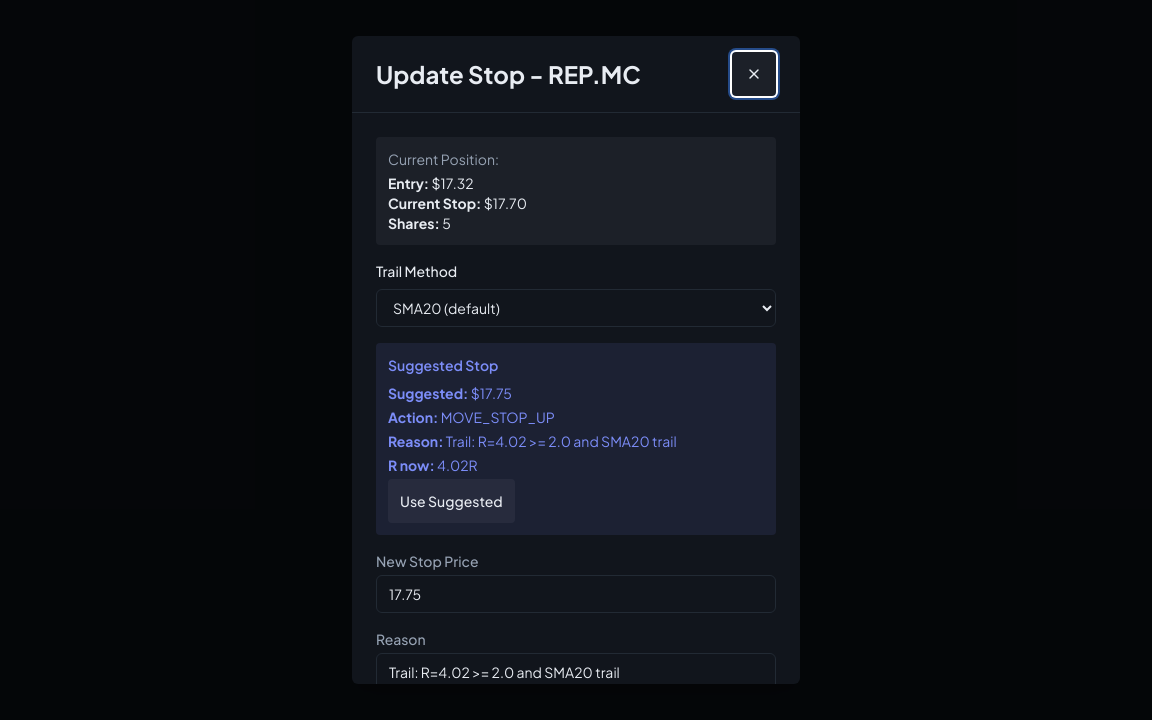
Test case: UpdateStopModalForm › rounds suggested stop to two decimals when applying suggestion
Replace the text in the number field with "17.8" at (576, 594), box left=376, top=575, right=776, bottom=613
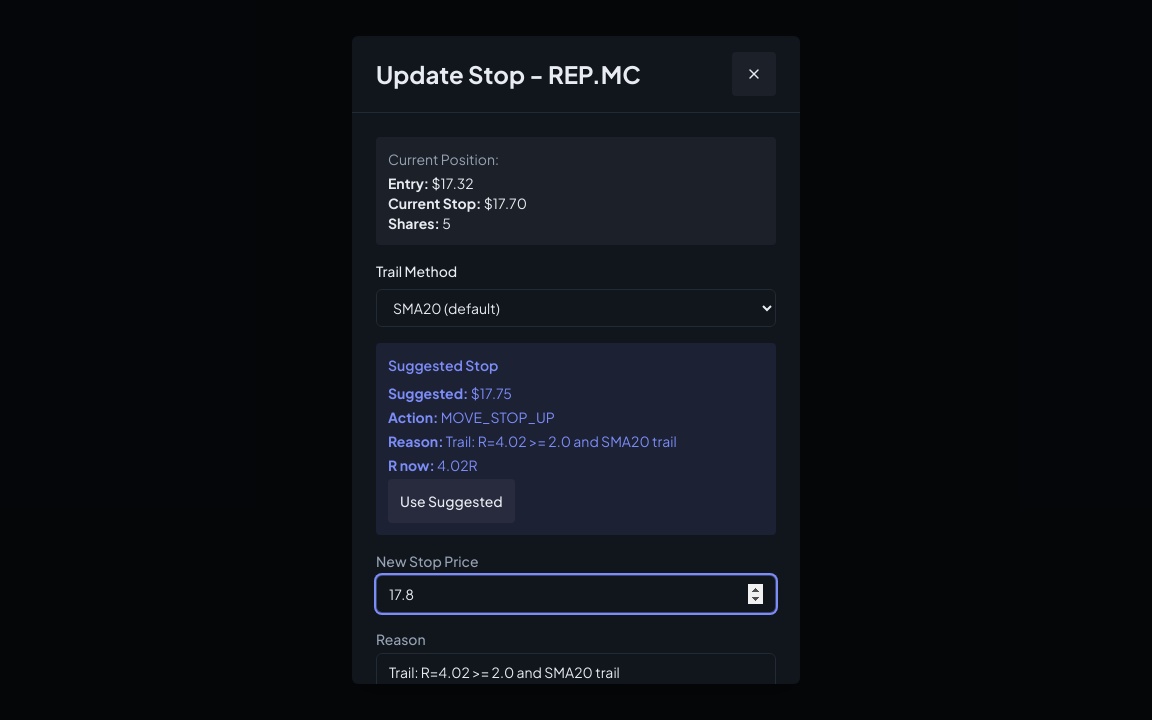
Click the button "Use Suggested".
click(451, 501)  # box left=388, top=479, right=515, bottom=523
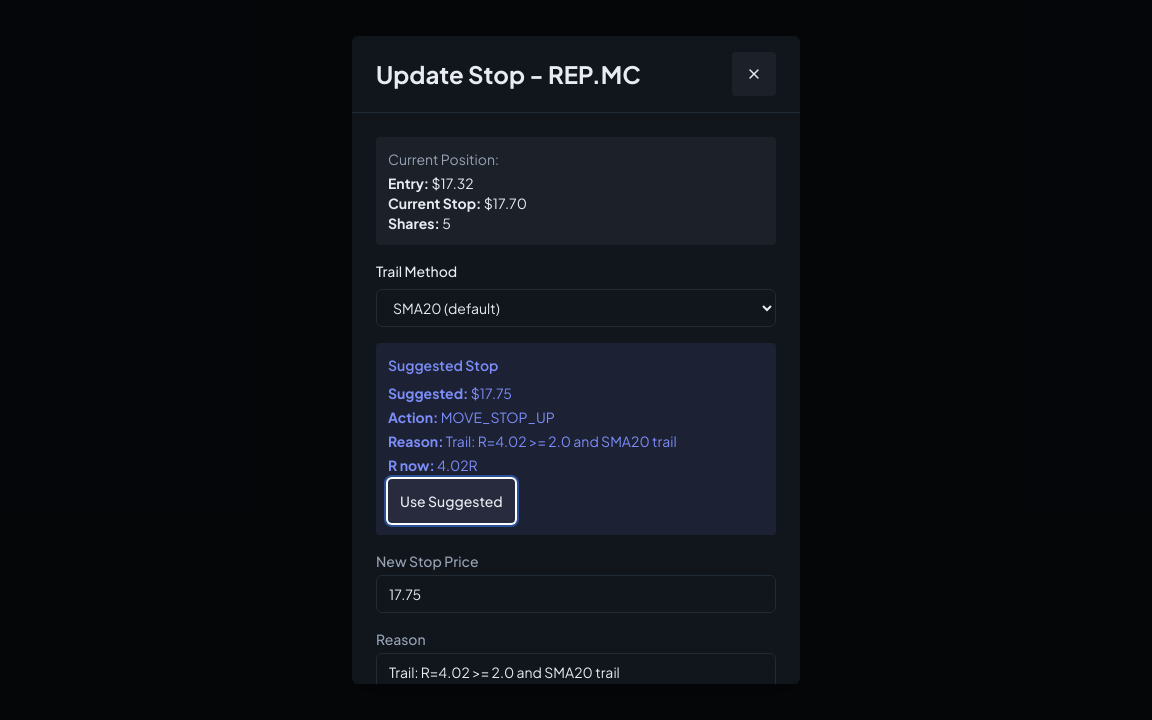
Expected: the number field holds "17.75", left=376, top=575, right=776, bottom=613
